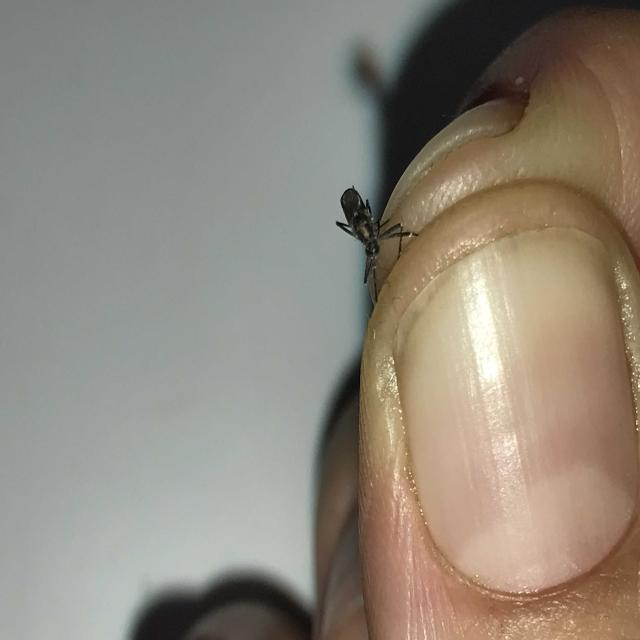albopictus: (331, 172, 421, 293)
